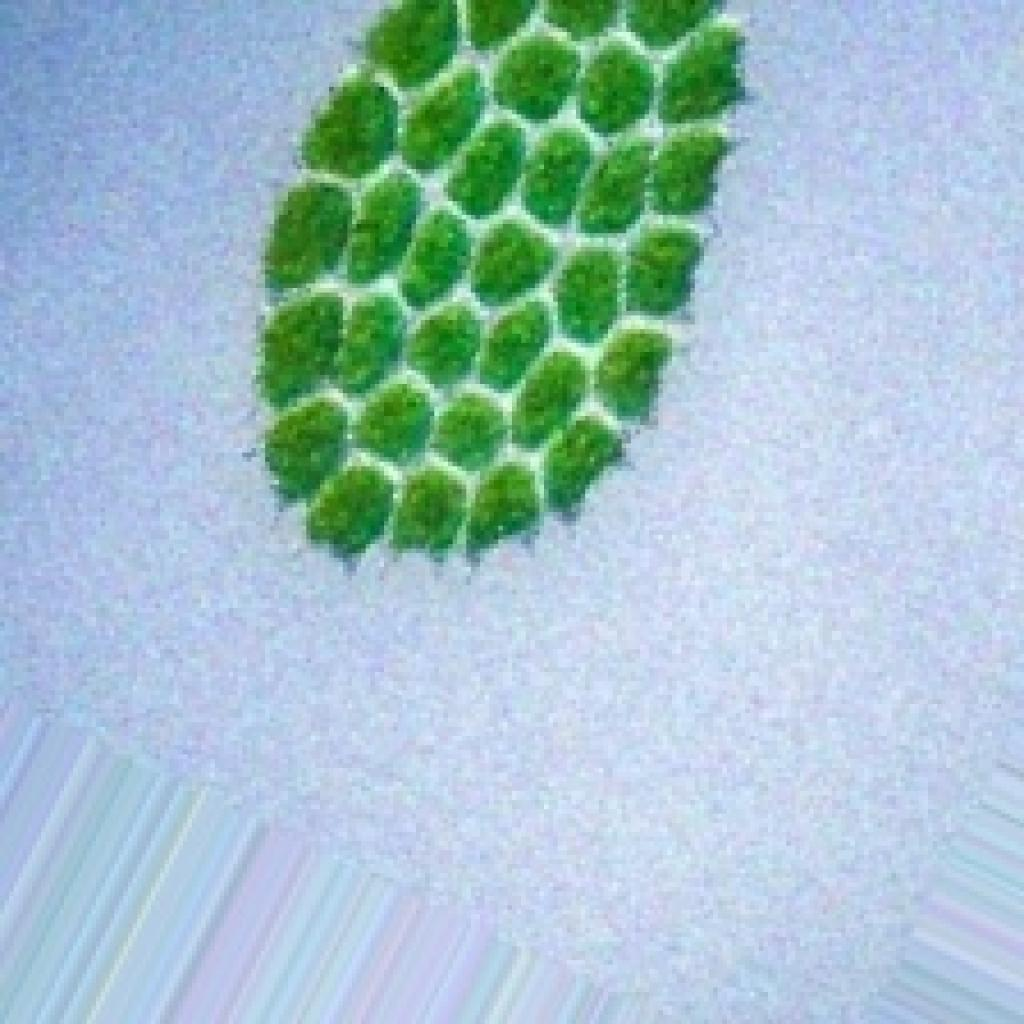Sphericalbacteria: (247, 0, 750, 571)
